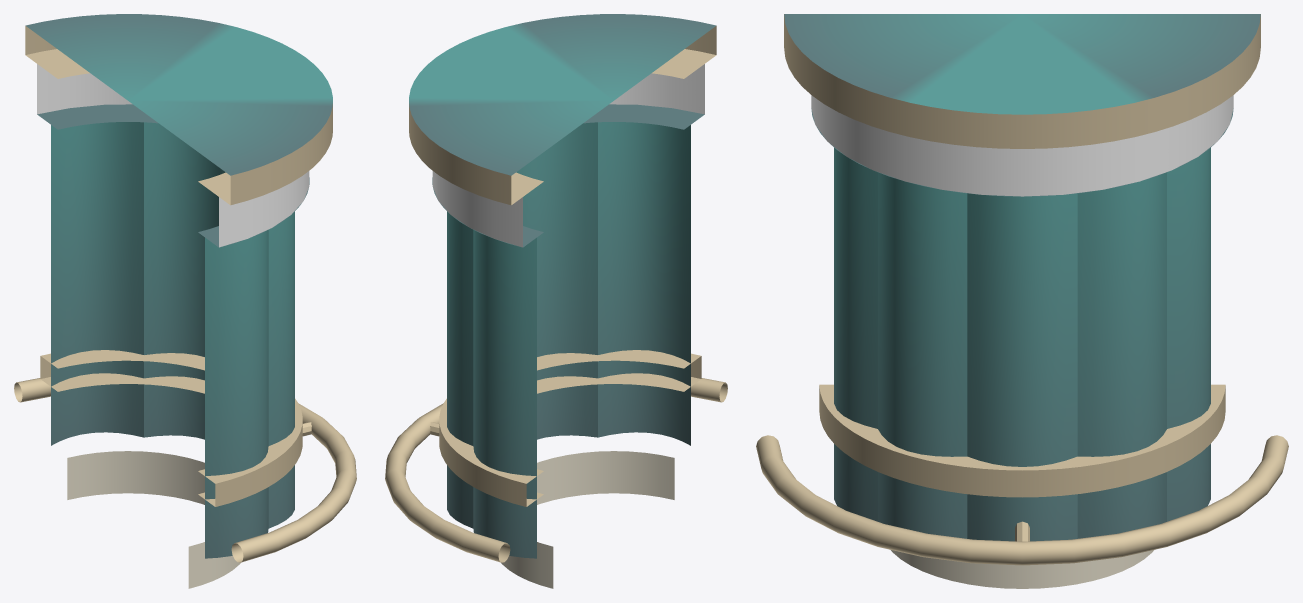
Rendered from KC32__AD_Int_Bar_End.glb.
3 renders of one model, left to right at view 1: azimuth 30°, elevation 25°; view 2: azimuth 150°, elevation 25°; view 3: azimuth 270°, elevation 25°, orthographic. The views are drawn at different scales.
Visible parts, largest first — view 1: KC32_CORPS__AD_Int_Bar_End, KC32_BRONZE__AD_Int_Bar_End, KC32_LUMIERE__AD_Int_Bar_End, KC32_ACCENT__AD_Int_Bar_End; view 2: KC32_CORPS__AD_Int_Bar_End, KC32_BRONZE__AD_Int_Bar_End, KC32_LUMIERE__AD_Int_Bar_End, KC32_ACCENT__AD_Int_Bar_End; view 3: KC32_CORPS__AD_Int_Bar_End, KC32_BRONZE__AD_Int_Bar_End, KC32_ACCENT__AD_Int_Bar_End, KC32_LUMIERE__AD_Int_Bar_End.
Boxes of the visible parts, bbox=[...] form: KC32_CORPS__AD_Int_Bar_End: bbox=[25, 14, 332, 558]; KC32_BRONZE__AD_Int_Bar_End: bbox=[14, 26, 356, 562]; KC32_LUMIERE__AD_Int_Bar_End: bbox=[67, 451, 240, 588]; KC32_ACCENT__AD_Int_Bar_End: bbox=[37, 64, 309, 247]; KC32_CORPS__AD_Int_Bar_End: bbox=[409, 14, 716, 558]; KC32_BRONZE__AD_Int_Bar_End: bbox=[385, 26, 727, 562]; KC32_LUMIERE__AD_Int_Bar_End: bbox=[501, 451, 674, 588]; KC32_ACCENT__AD_Int_Bar_End: bbox=[432, 64, 704, 247]; KC32_CORPS__AD_Int_Bar_End: bbox=[784, 14, 1260, 541]; KC32_BRONZE__AD_Int_Bar_End: bbox=[756, 14, 1288, 565]; KC32_ACCENT__AD_Int_Bar_End: bbox=[811, 95, 1233, 196]; KC32_LUMIERE__AD_Int_Bar_End: bbox=[891, 550, 1153, 588].
Size of the model in its own units: 0.4942 by 1.05 by 0.9838.
